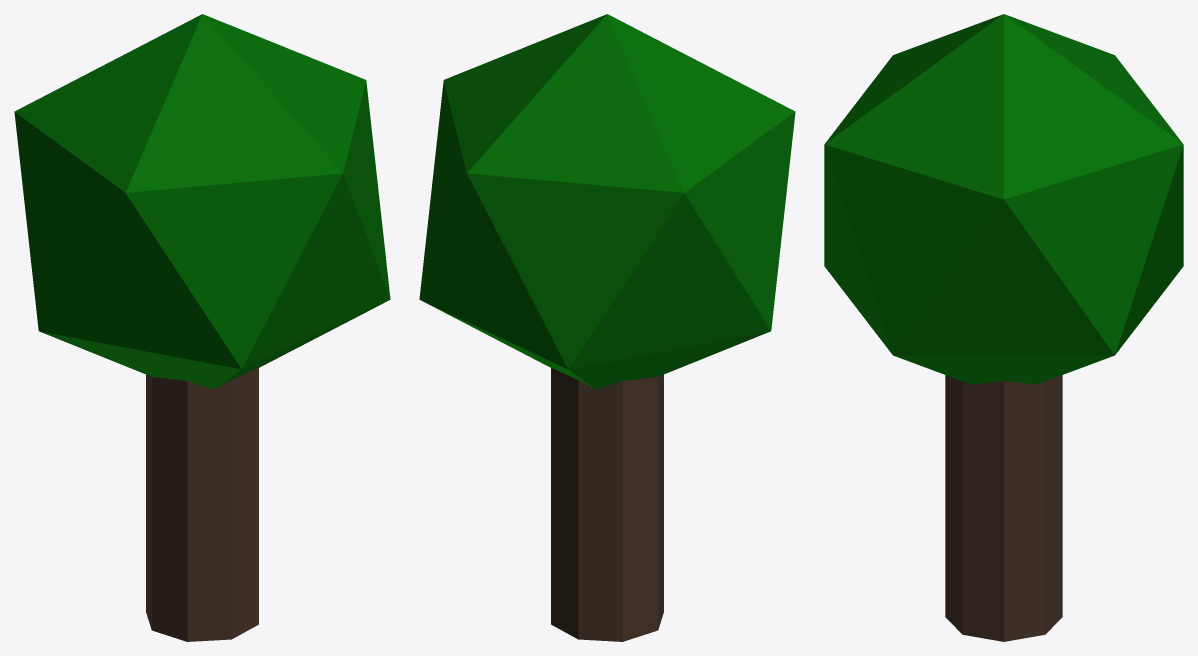
File: Tree02.fbx
The picture shows the model from 3 angles, left to right: view 1: azimuth 30°, elevation 25°; view 2: azimuth 150°, elevation 25°; view 3: azimuth 270°, elevation 25°; orthographic projection.
Visible parts, largest first — view 1: Tree02; view 2: Tree02; view 3: Tree02.
Part boxes in pixels (box(x1,y1,x2,y2)): Tree02: box(14, 14, 390, 641); Tree02: box(419, 14, 795, 641); Tree02: box(824, 14, 1183, 641).
Size of the model in its own units: 315 by 555 by 299.
